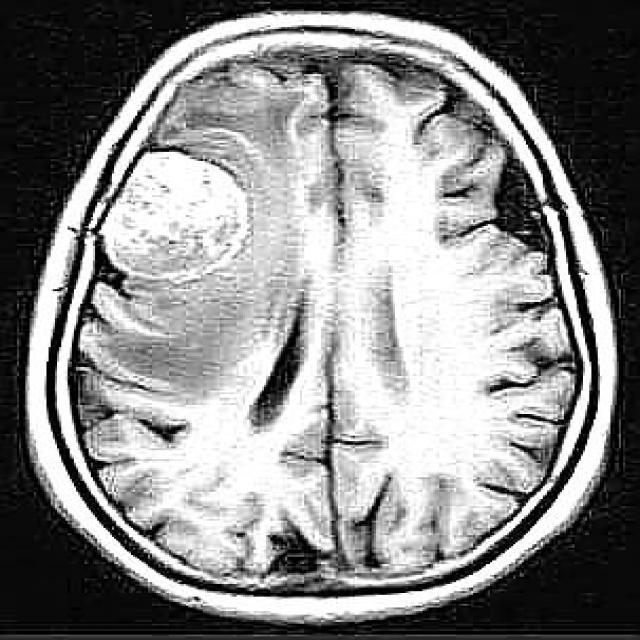tumor: (101, 150, 251, 293)
